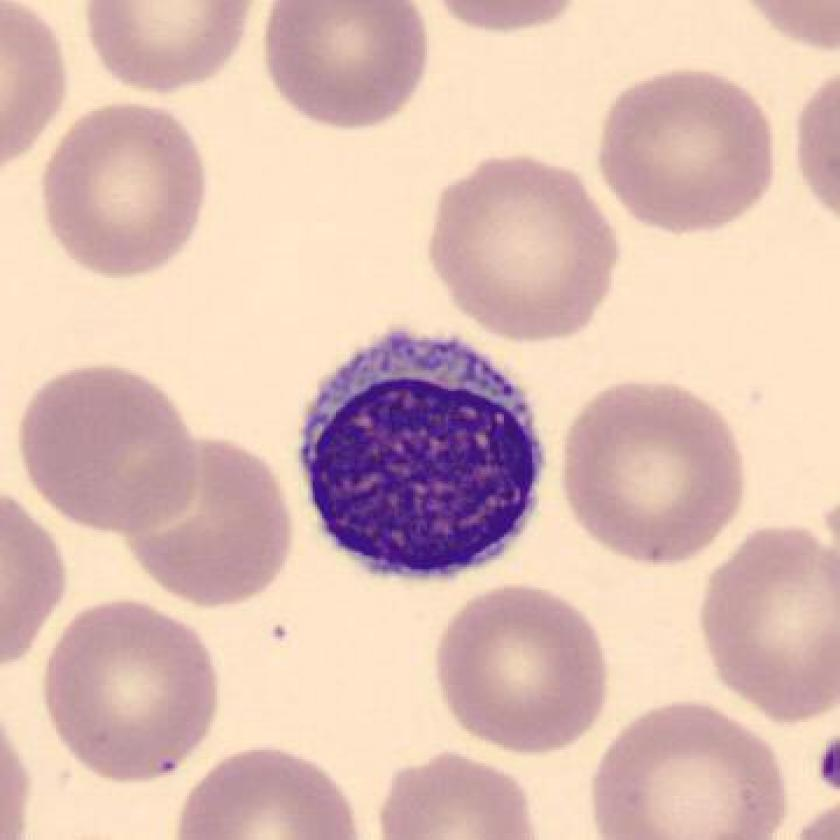lymphocyte: (277, 314, 557, 594)
